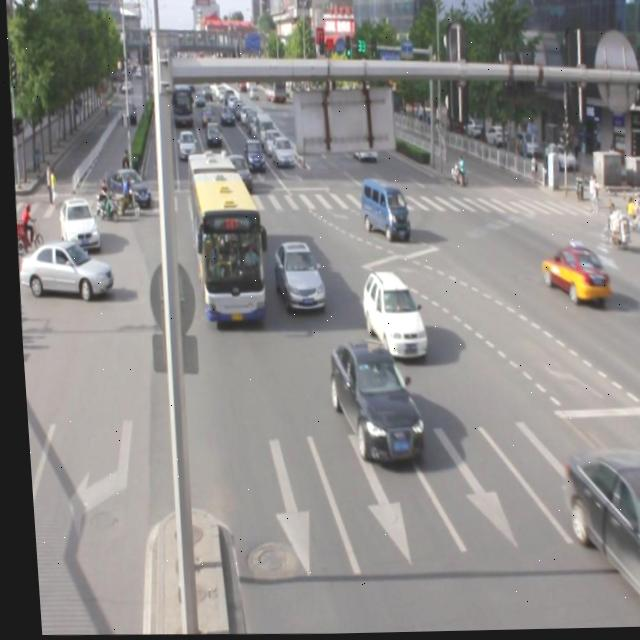car: (551, 449, 640, 631), (322, 340, 419, 463), (355, 269, 422, 361), (534, 246, 606, 307), (267, 240, 322, 315)
truck: (355, 179, 408, 243)
van: (183, 152, 264, 322)
